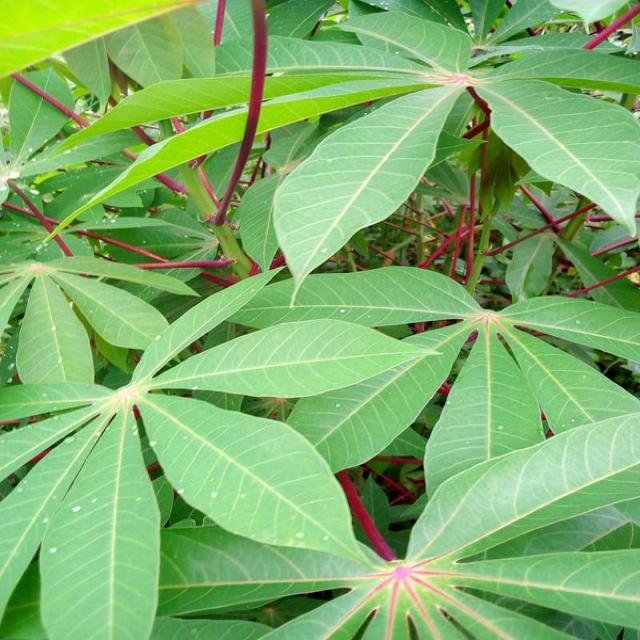cassava leaf: (1, 1, 638, 638), (271, 79, 474, 305)
